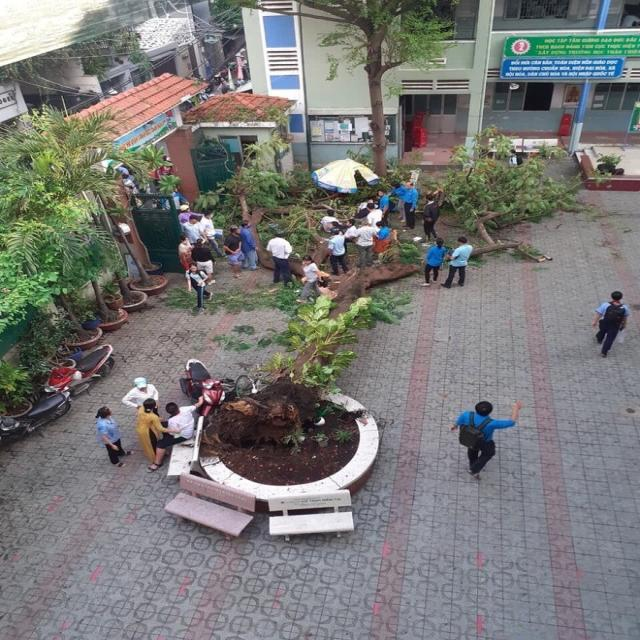fallen_object: (193, 130, 562, 456)
